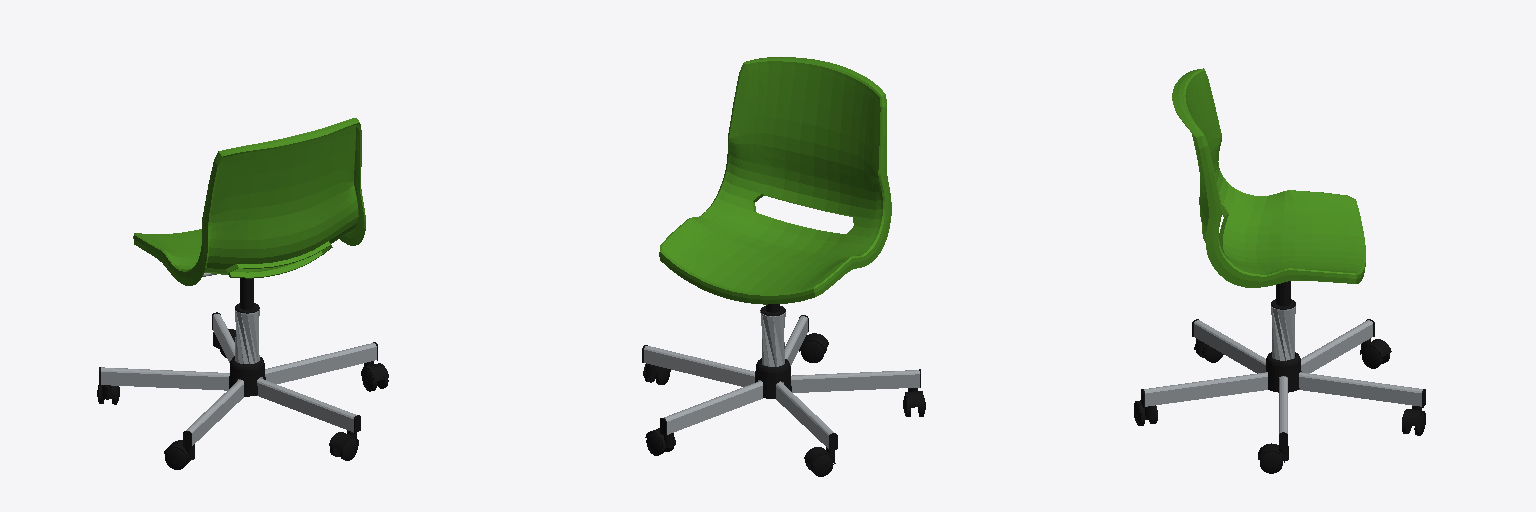
3 views of the same model, side by side, from view 1: azimuth 30°, elevation 25°; view 2: azimuth 150°, elevation 25°; view 3: azimuth 270°, elevation 25° (orthographic).
Parts seen in each view (by area): view 1: Mesh2 Group2 SNILLE_IKEA1 Model, Mesh8 Group6 SNILLE_IKEA1 Model, Mesh7 Group5 SNILLE_IKEA1 Model, Mesh1 Group1 SNILLE_IKEA1 Model, Mesh3 Group3 SNILLE_IKEA1 Model; view 2: Mesh2 Group2 SNILLE_IKEA1 Model, Mesh8 Group6 SNILLE_IKEA1 Model, Mesh7 Group5 SNILLE_IKEA1 Model, Mesh1 Group1 SNILLE_IKEA1 Model; view 3: Mesh2 Group2 SNILLE_IKEA1 Model, Mesh8 Group6 SNILLE_IKEA1 Model, Mesh7 Group5 SNILLE_IKEA1 Model, Mesh1 Group1 SNILLE_IKEA1 Model.
Boxes of the visible parts, <box> form: Mesh2 Group2 SNILLE_IKEA1 Model: <box>133,118,365,285</box>; Mesh8 Group6 SNILLE_IKEA1 Model: <box>99,312,377,447</box>; Mesh7 Group5 SNILLE_IKEA1 Model: <box>235,309,259,363</box>; Mesh1 Group1 SNILLE_IKEA1 Model: <box>229,356,265,396</box>; Mesh3 Group3 SNILLE_IKEA1 Model: <box>235,278,259,313</box>; Mesh2 Group2 SNILLE_IKEA1 Model: <box>659,57,891,304</box>; Mesh8 Group6 SNILLE_IKEA1 Model: <box>642,315,920,450</box>; Mesh7 Group5 SNILLE_IKEA1 Model: <box>760,311,785,366</box>; Mesh1 Group1 SNILLE_IKEA1 Model: <box>755,358,791,398</box>; Mesh2 Group2 SNILLE_IKEA1 Model: <box>1172,68,1365,287</box>; Mesh8 Group6 SNILLE_IKEA1 Model: <box>1141,319,1425,448</box>; Mesh7 Group5 SNILLE_IKEA1 Model: <box>1271,306,1295,360</box>; Mesh1 Group1 SNILLE_IKEA1 Model: <box>1266,352,1301,392</box>.
Size of the model in its own units: 0.5851 by 0.7101 by 0.5957.